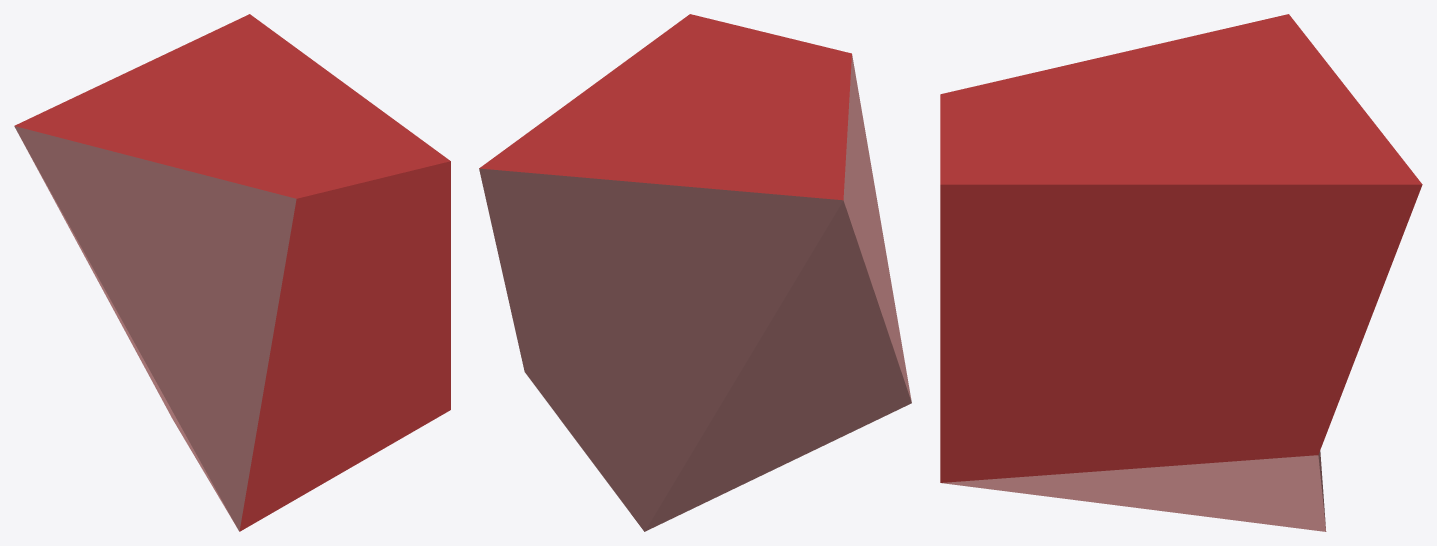
Rendered from wrong1.fbx.
3 views of the same model, side by side, from view 1: azimuth 30°, elevation 25°; view 2: azimuth 150°, elevation 25°; view 3: azimuth 270°, elevation 25° (orthographic). The views are drawn at different scales.
Visible parts, largest first — view 1: wrong1; view 2: wrong1; view 3: wrong1.
Boxes of the visible parts, bbox=[...] form: wrong1: bbox=[14, 14, 450, 531]; wrong1: bbox=[479, 14, 911, 531]; wrong1: bbox=[940, 14, 1422, 531].
Size of the model in its own units: 41.78 by 47.54 by 49.92.
